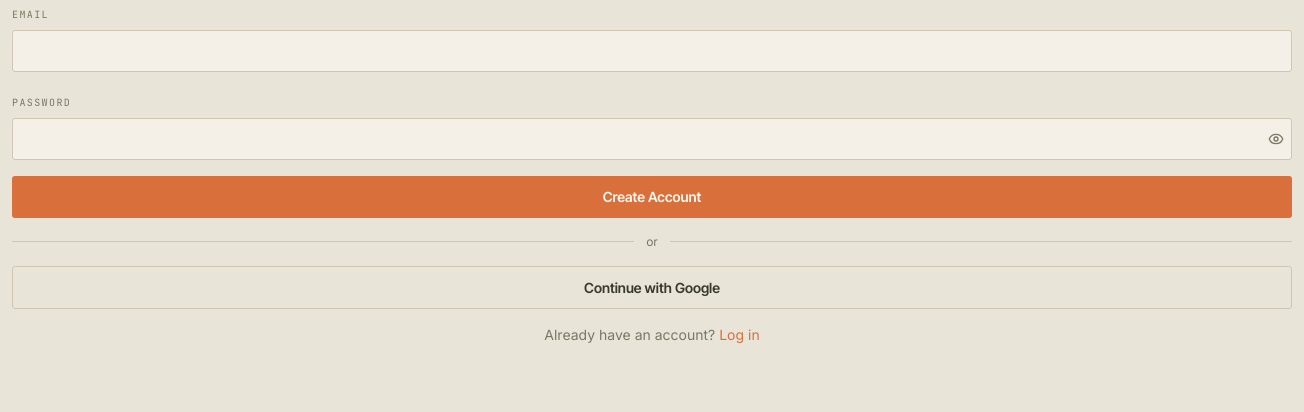
Test: SignupForm › validates email and password length (7b.1)
Type "not-an-email" into the field labelled "Email".
click(652, 51); type("not-an-email")  # box [12,30,1292,72]
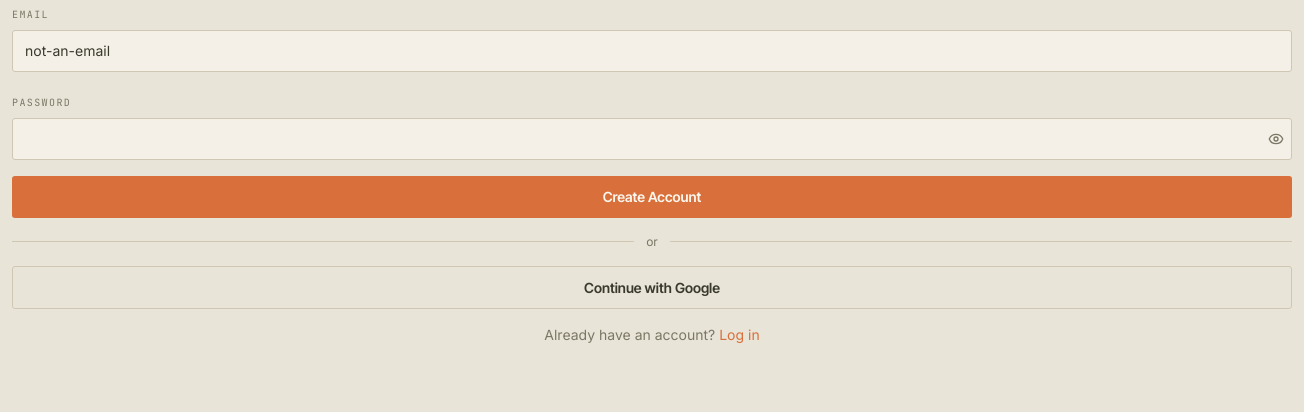
Type "short" into the password field labelled "Password".
click(652, 139); type("short")  # box [12,118,1292,160]
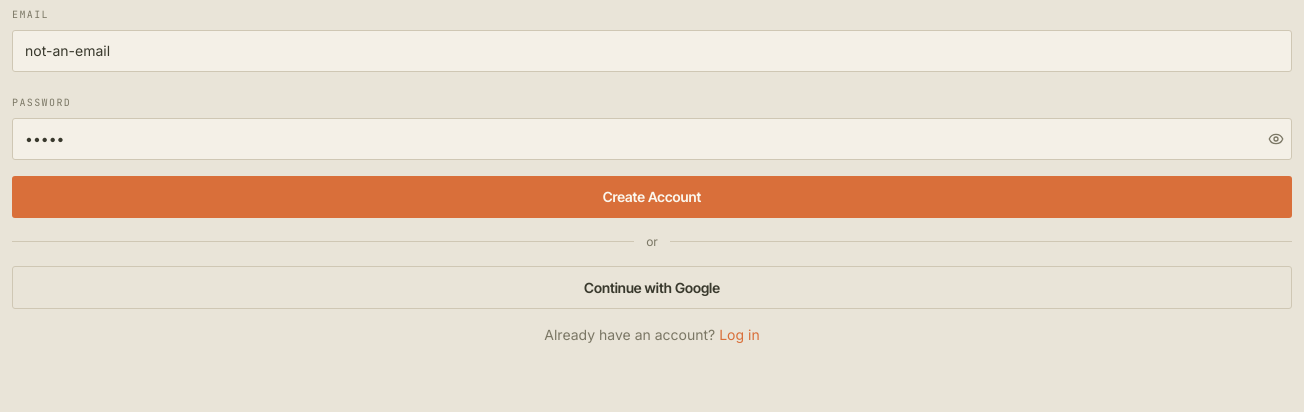
Click the button "Create Account".
click(652, 197)  # box [12,176,1292,218]
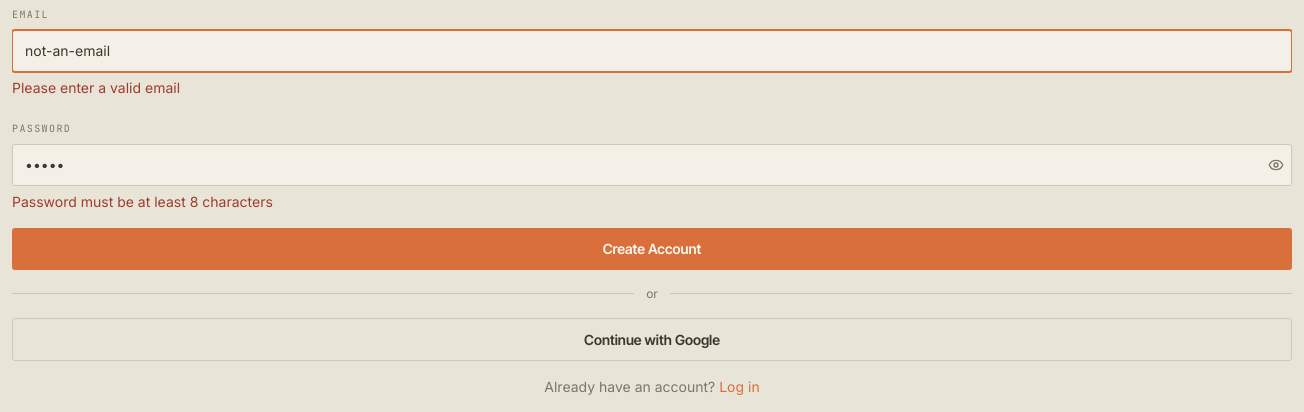
Result: the text "Please enter a valid email" is shown at [12,79,180,96]
Result: the text "Password must be at least 8 characters" is shown at [12,193,273,210]
